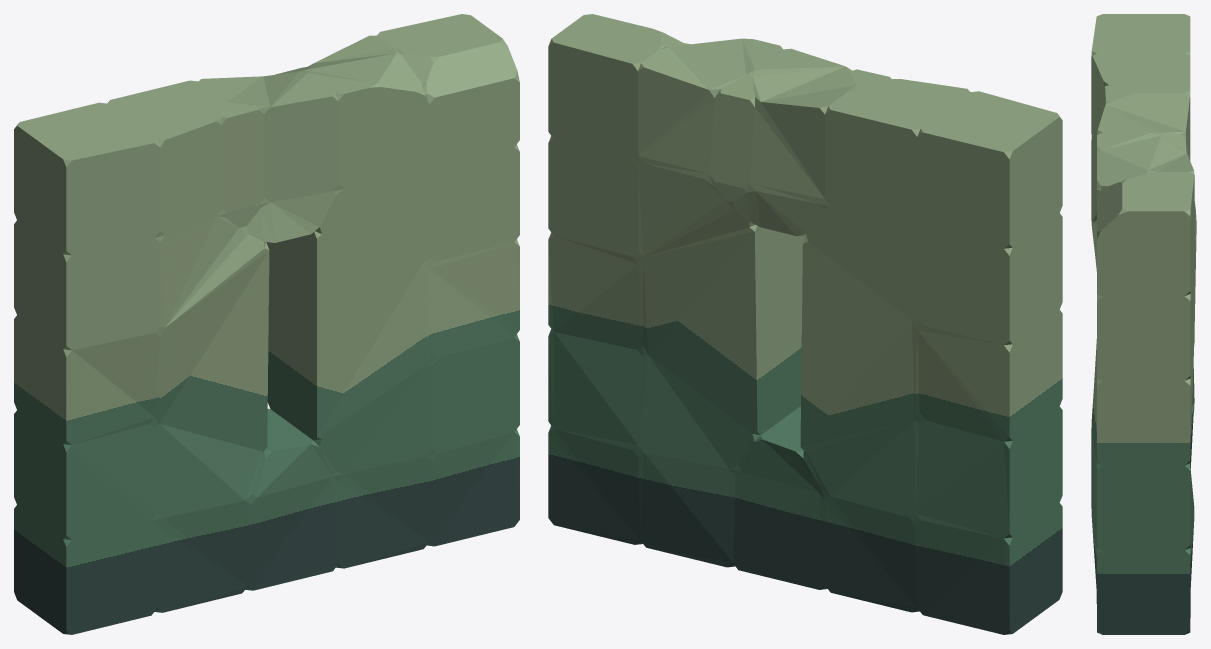
Rendered from Wall 5.003.fbx.
The picture shows the model from 3 angles, left to right: view 1: azimuth 30°, elevation 25°; view 2: azimuth 150°, elevation 25°; view 3: azimuth 270°, elevation 25°; orthographic projection. The views are drawn at different scales.
Parts seen in each view (by area): view 1: Wall 5.003; view 2: Wall 5.003; view 3: Wall 5.003.
Boxes of the visible parts, x1,y1,x2,y2 form: Wall 5.003: (14,14,519,634); Wall 5.003: (548,14,1062,634); Wall 5.003: (1091,14,1196,634).
Size of the model in its own units: 500 by 500 by 113.
